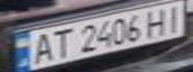0: (109, 15, 130, 46)
2: (75, 21, 100, 53)
4: (93, 17, 115, 50)
6: (124, 11, 148, 43)
A: (24, 30, 57, 65)
H: (142, 6, 175, 38)
I: (160, 2, 190, 34)
T: (45, 26, 75, 60)
